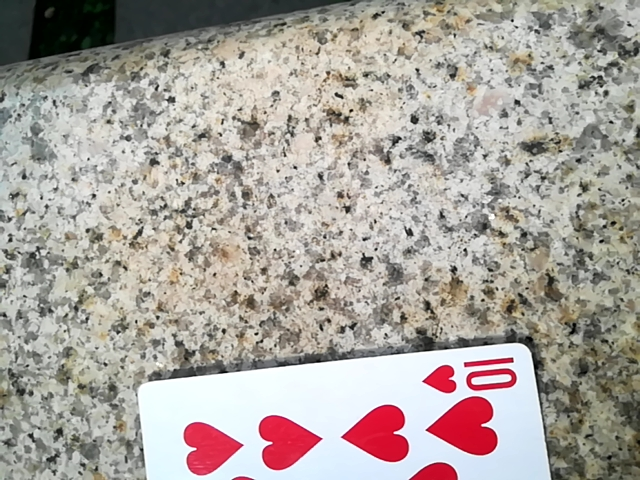hx 10: (124, 338, 569, 480)
